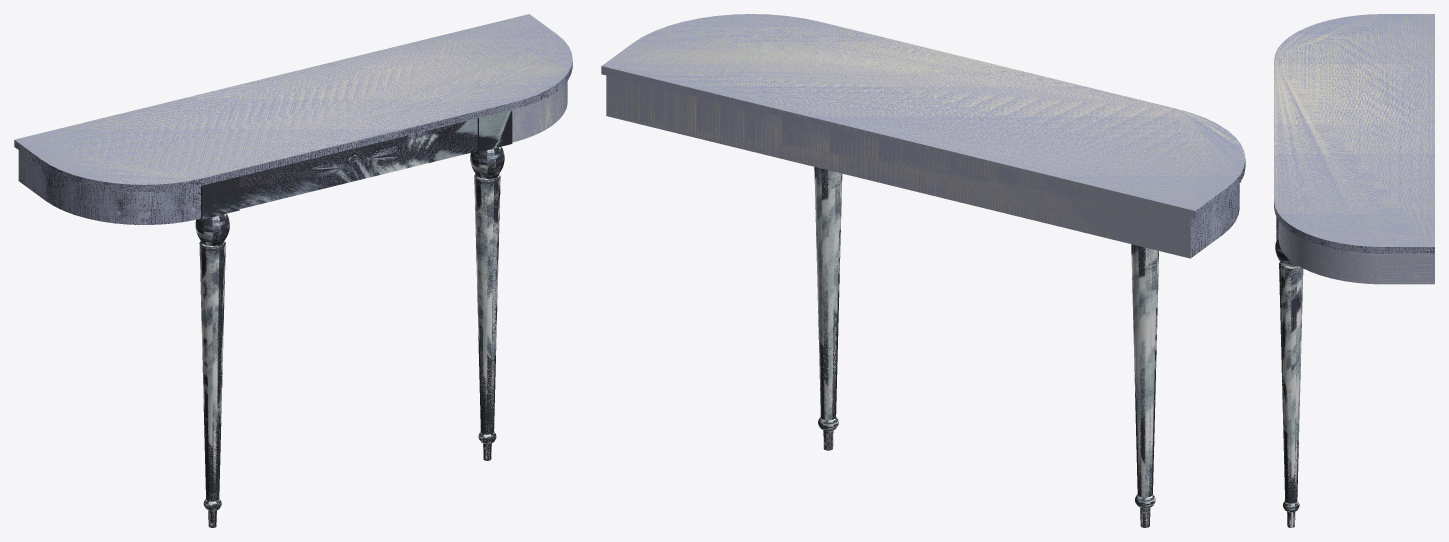
Rendered from prop_console_monceau.fbx.
3 renders of one model, left to right at view 1: azimuth 30°, elevation 25°; view 2: azimuth 150°, elevation 25°; view 3: azimuth 270°, elevation 25°, orthographic. The views are drawn at different scales.
Parts seen in each view (by area): view 1: Model, Group2, Group1; view 2: Model, Group2, Group1; view 3: Model, Group2.
Part boxes in pixels (x1=…): Model: x1=14, y1=14, x2=572, y2=224; Group2: x1=470, y1=146, x2=504, y2=460; Group1: x1=195, y1=213, x2=229, y2=527; Model: x1=601, y1=14, x2=1245, y2=258; Group2: x1=814, y1=167, x2=842, y2=450; Group1: x1=1131, y1=244, x2=1158, y2=527; Model: x1=1274, y1=14, x2=1434, y2=284; Group2: x1=1275, y1=240, x2=1303, y2=527.
Bounding box in the file's own units: 1.2 × 0.8 × 0.35.
